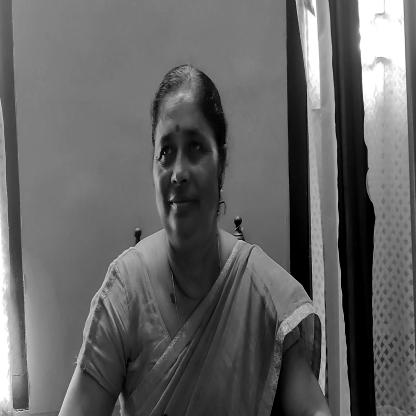Normal: (151, 66, 226, 240)
